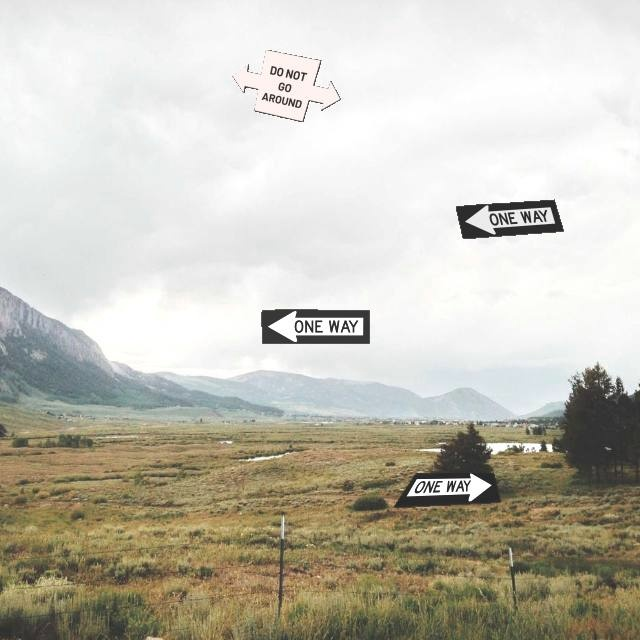DO_NOT_GO_AROUND: (232, 49, 341, 122)
ONE_WAY_ left: (455, 199, 564, 239), (261, 309, 370, 344)
ONE_WAY_ right: (392, 472, 501, 508)
